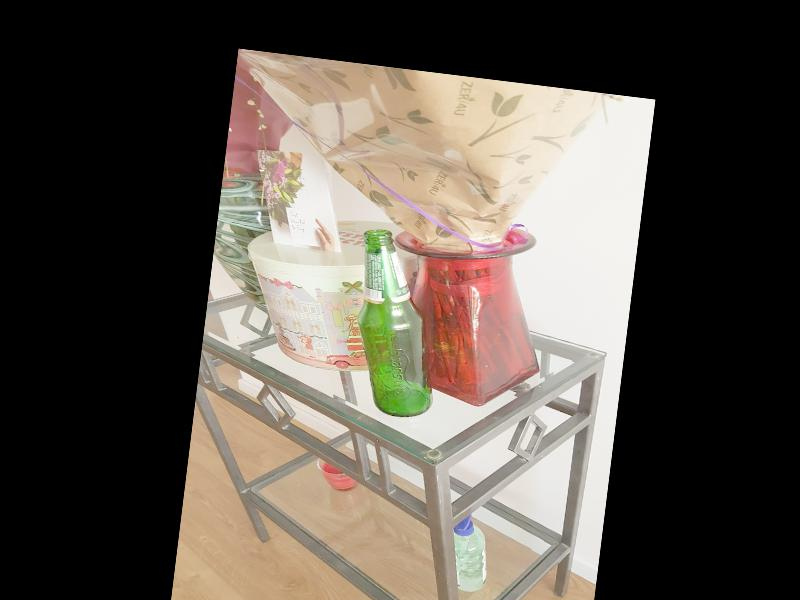Beer: (344, 227, 451, 421)
